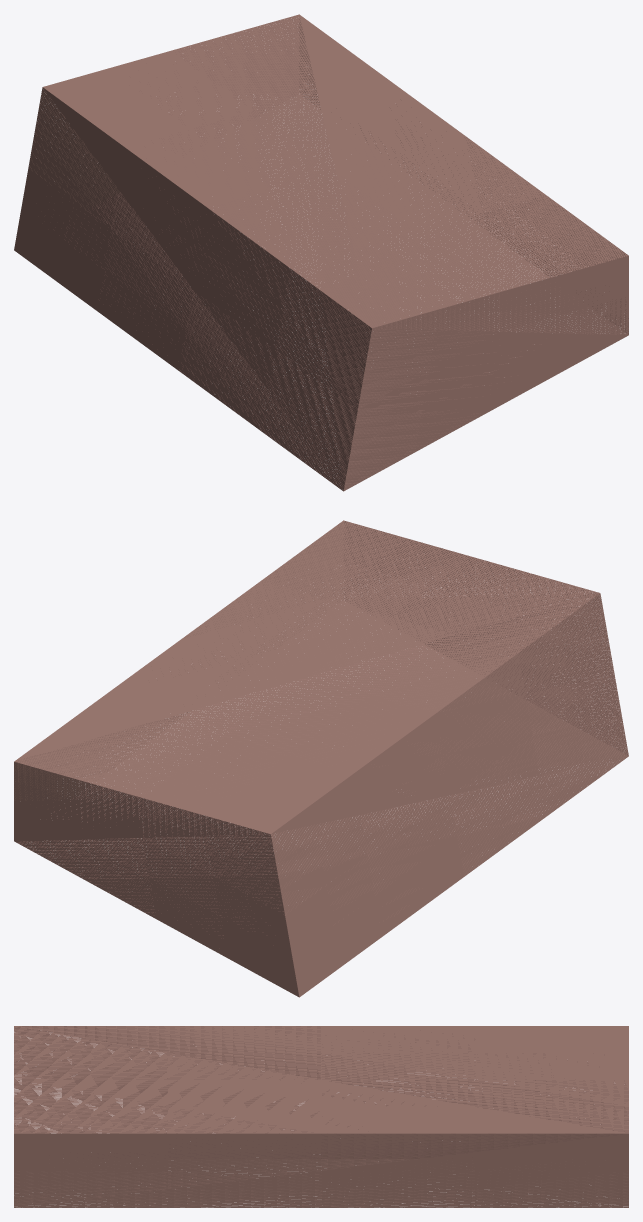
The model's file is SW_ENV_EL_TrackBase_Walkway_Side_3m_Collision.fbx.
The picture shows the model from 3 angles, top to bottom: view 1: azimuth 30°, elevation 25°; view 2: azimuth 150°, elevation 25°; view 3: azimuth 270°, elevation 25°; orthographic projection. The views are drawn at different scales.
Parts seen in each view (by area): view 1: SW_ENV_EL_TrackBase_Walkway_Side_3m_Collision; view 2: SW_ENV_EL_TrackBase_Walkway_Side_3m_Collision; view 3: SW_ENV_EL_TrackBase_Walkway_Side_3m_Collision.
Boxes of the visible parts, x1=… form: SW_ENV_EL_TrackBase_Walkway_Side_3m_Collision: x1=14, y1=14, x2=628, y2=491; SW_ENV_EL_TrackBase_Walkway_Side_3m_Collision: x1=14, y1=520, x2=628, y2=997; SW_ENV_EL_TrackBase_Walkway_Side_3m_Collision: x1=14, y1=1026, x2=628, y2=1207.
Size of the model in its own units: 150 by 83.5 by 300.
